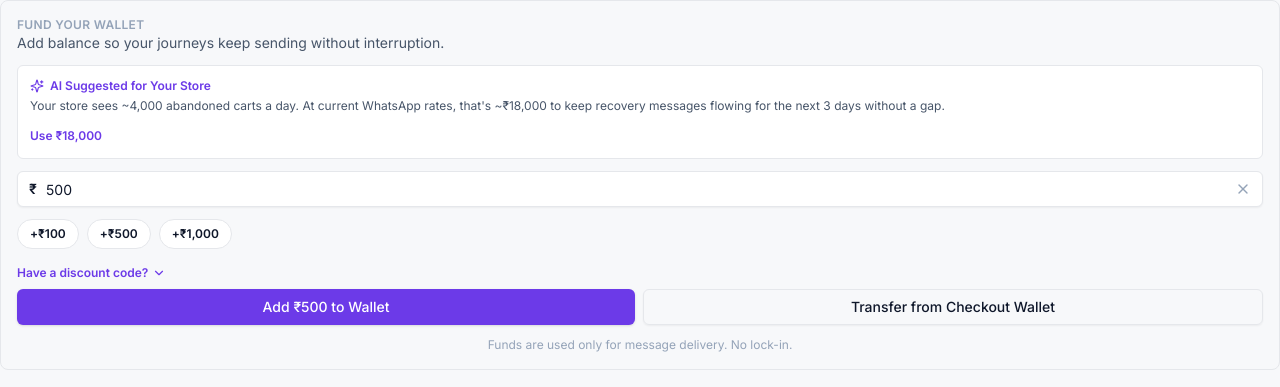
it: WalletRechargeCard › defaults the wallet amount to ₹500 and increments it via the +chips
expect the number field with test id "wallet-recharge-amount-input" holds "500": met, box [17,171,1263,207]
Click the button with test id "wallet-recharge-increment-100": (48, 234) [17,219,79,249]
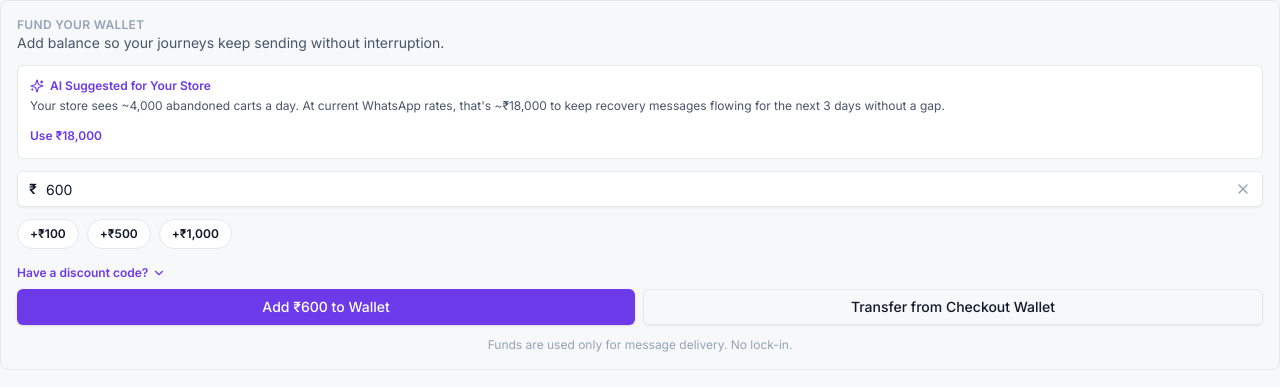
expect the number field with test id "wallet-recharge-amount-input" holds "600": met, box [17,171,1263,207]
Click the button with test id "wallet-recharge-increment-1000": (195, 234) [159,219,232,249]
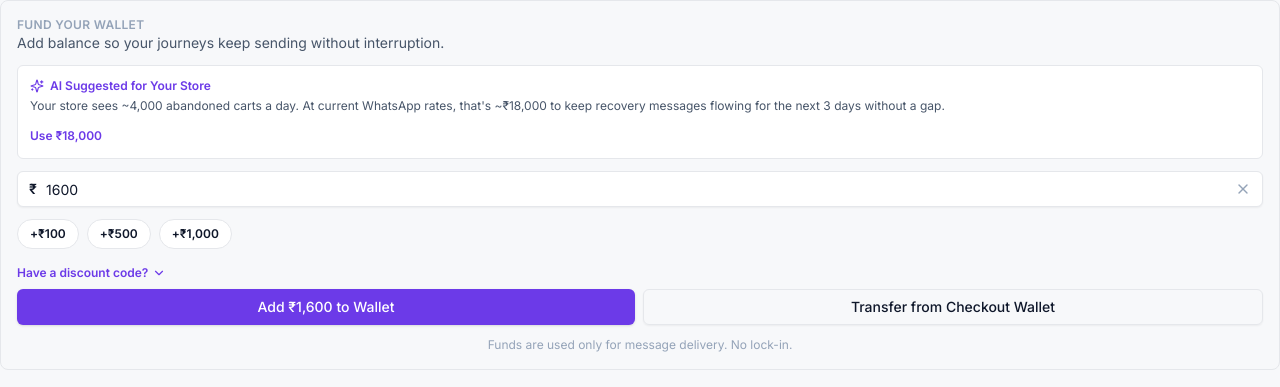
expect the number field with test id "wallet-recharge-amount-input" holds "1600": met, box [17,171,1263,207]
